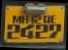character: (6, 23, 20, 40), (20, 24, 34, 39), (35, 23, 48, 39), (48, 23, 61, 39)
